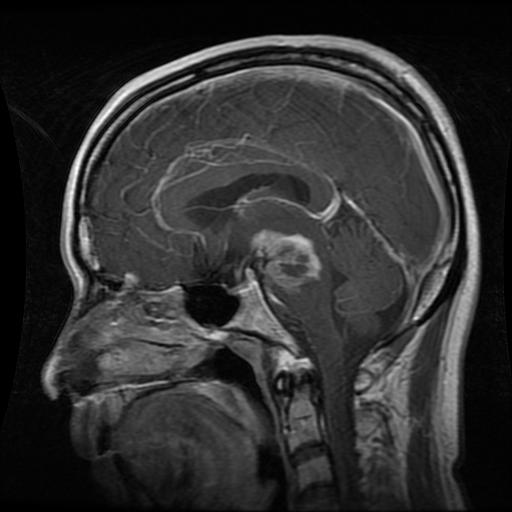Gliomia_tumour: (248, 224, 322, 295)
